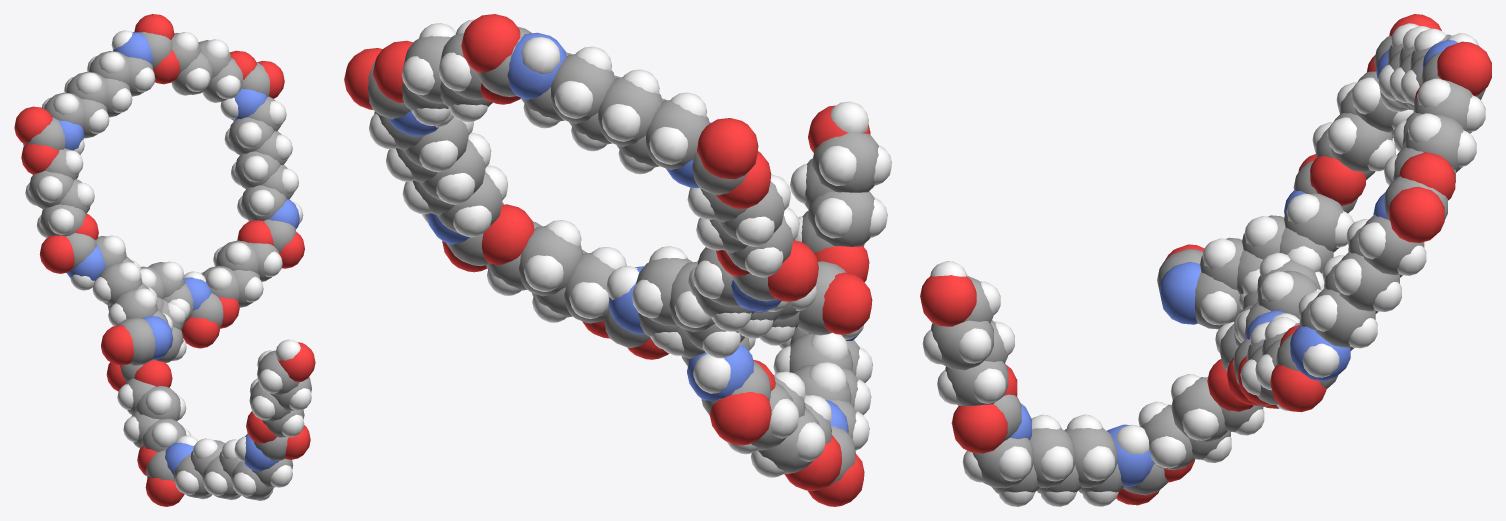
File: PolyurethanLinearSphere.gltf
3 views of the same model, side by side, from view 1: azimuth 30°, elevation 25°; view 2: azimuth 150°, elevation 25°; view 3: azimuth 270°, elevation 25° (orthographic). The views are drawn at different scales.
Visible parts, largest first — view 1: VSph195, VSph199, VSph200, VSph173, VSph181, VSph185, VSph175, VSph191, VSph194, VSph157, VSph198, VSph128 (+108 smaller); view 2: VSph173, VSph177, VSph169, VSph200, VSph184, VSph141, VSph195, VSph139, VSph122, VSph124, VSph143, VSph126 (+64 smaller); view 3: VSph165, VSph185, VSph186, VSph169, VSph198, VSph176, VSph161, VSph167, VSph155, VSph129, VSph153, VSph142 (+45 smaller).
Part boxes in pixels (box(x1,y1,x2,y2)): VSph195: box(39, 235, 74, 273); VSph199: box(118, 317, 155, 365); VSph200: box(101, 325, 133, 365); VSph173: box(14, 106, 52, 144); VSph181: box(181, 317, 220, 348); VSph185: box(277, 342, 315, 382); VSph175: box(21, 144, 59, 174); VSph191: box(145, 476, 184, 506); VSph194: box(134, 360, 172, 387); VSph157: box(98, 262, 142, 306); VSph198: box(142, 316, 173, 360); VSph128: box(28, 170, 73, 209); VSph173: box(697, 118, 758, 179); VSph177: box(709, 392, 771, 445); VSph169: box(461, 14, 520, 72); VSph200: box(822, 272, 872, 334); VSph184: box(482, 204, 534, 265); VSph141: box(811, 133, 878, 192); VSph195: box(768, 240, 818, 301); VSph139: box(519, 226, 582, 296); VSph122: box(550, 54, 614, 124); VSph124: box(598, 77, 662, 146); VSph143: box(807, 191, 874, 246); VSph126: box(645, 100, 709, 170); VSph165: box(1388, 186, 1444, 242); VSph185: box(920, 275, 976, 326); VSph186: box(951, 404, 1007, 453); VSph169: box(1437, 41, 1491, 96); VSph198: box(1159, 262, 1201, 324); VSph176: box(1310, 156, 1365, 205); VSph161: box(1270, 365, 1326, 412); VSph167: box(1399, 152, 1455, 200); VSph155: box(1284, 193, 1343, 252); VSph129: box(1330, 113, 1392, 172); VSph153: box(1171, 377, 1227, 442); VSph142: box(931, 320, 993, 370).
Size of the model in its own units: 0.575 by 0.7631 by 0.7455.
